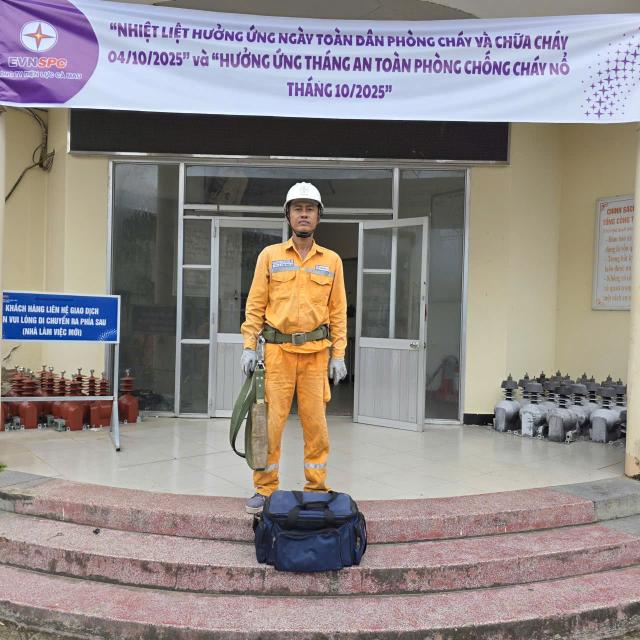gloves: (223, 343, 267, 382), (318, 352, 358, 390)
harness: (252, 313, 337, 348)
helmet: (279, 179, 328, 212)
shoes: (225, 475, 283, 516)
